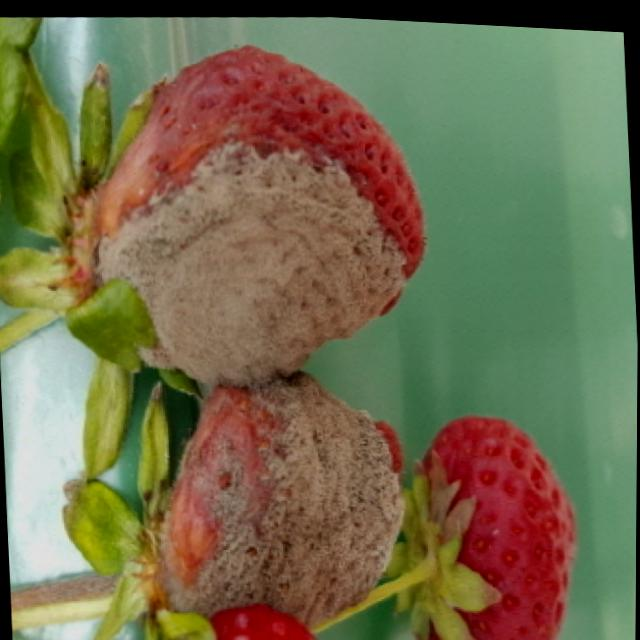Gray Mold: (91, 131, 420, 387), (151, 368, 409, 631)
